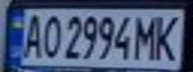2: (63, 11, 84, 61)
4: (112, 12, 136, 61)
9: (78, 11, 100, 61), (97, 12, 118, 61)
A: (18, 10, 45, 60)
K: (151, 11, 184, 61)
M: (133, 12, 160, 61)
O: (39, 11, 63, 60)
